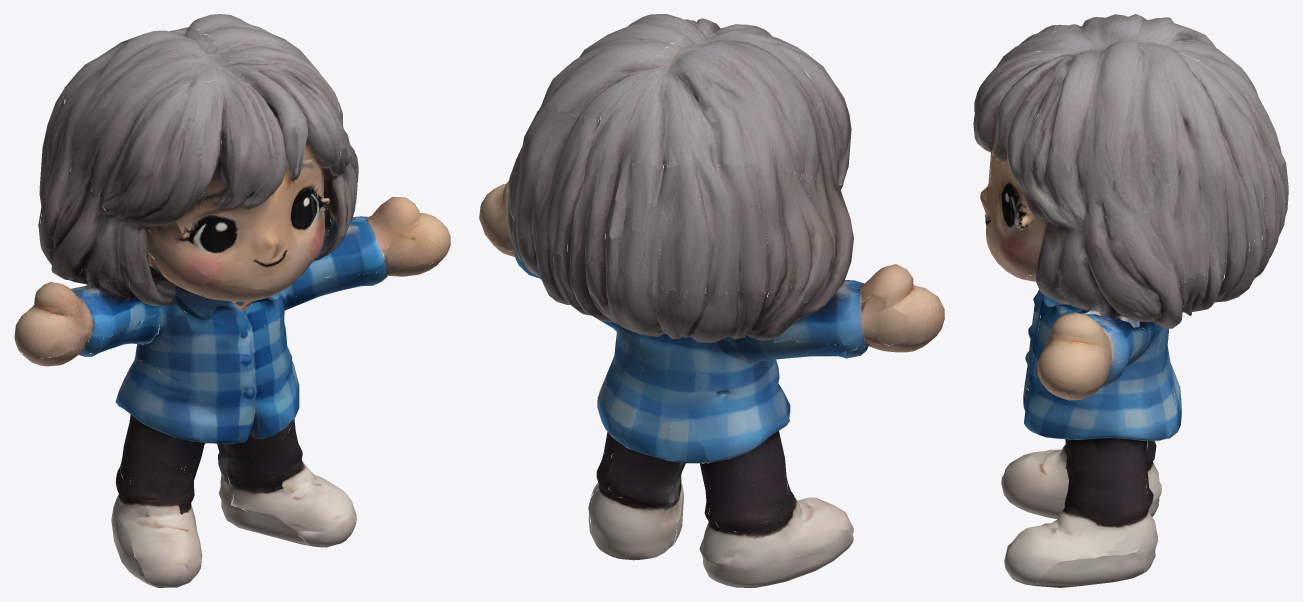
The model's file is vickie.glb.
The picture shows the model from 3 angles, left to right: view 1: azimuth 30°, elevation 25°; view 2: azimuth 150°, elevation 25°; view 3: azimuth 270°, elevation 25°; orthographic projection. The views are drawn at different scales.
Visible parts, largest first — view 1: vickie; view 2: vickie; view 3: vickie.
Part boxes in pixels (bbox=[...]): vickie: bbox=[14, 14, 450, 587]; vickie: bbox=[479, 14, 944, 587]; vickie: bbox=[973, 14, 1288, 587].
Bounding box in the file's own units: 0.8941 × 0.9891 × 0.5566.
Materials: 1 (1 with a texture image).
